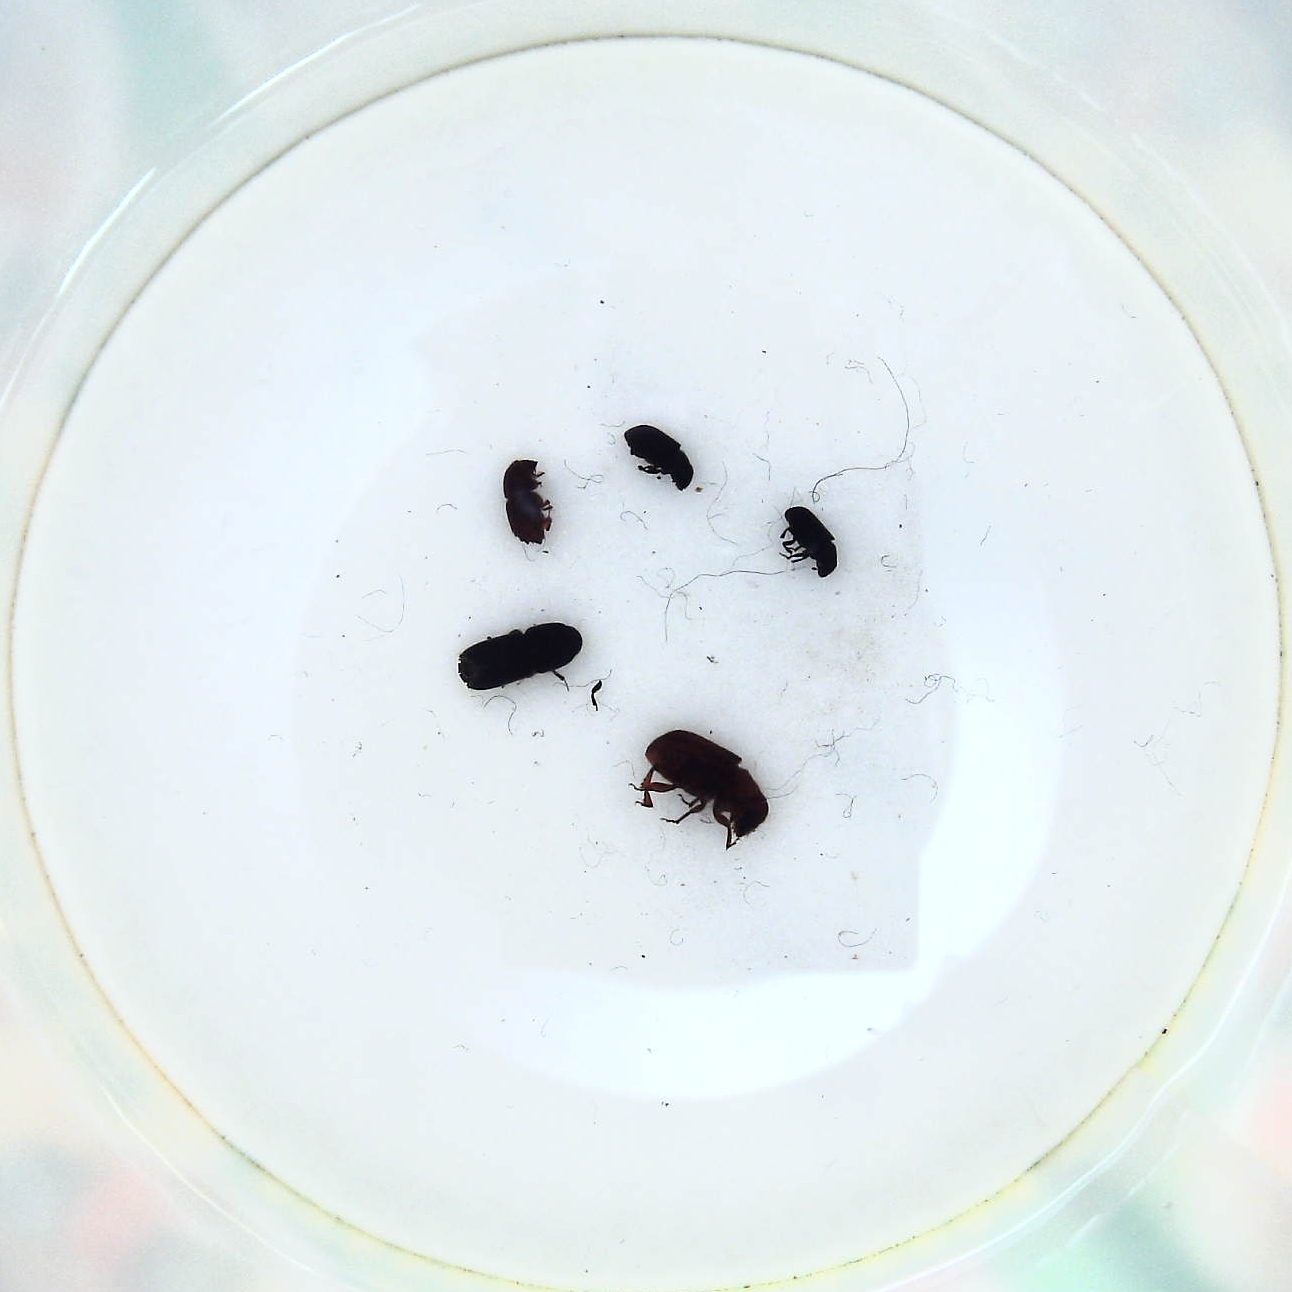Boerner: (452, 618, 586, 696)
Leconte: (640, 728, 774, 852)
armandi: (620, 424, 698, 499)
coleoptera: (774, 504, 845, 584)
linnaeus: (498, 450, 554, 550)
